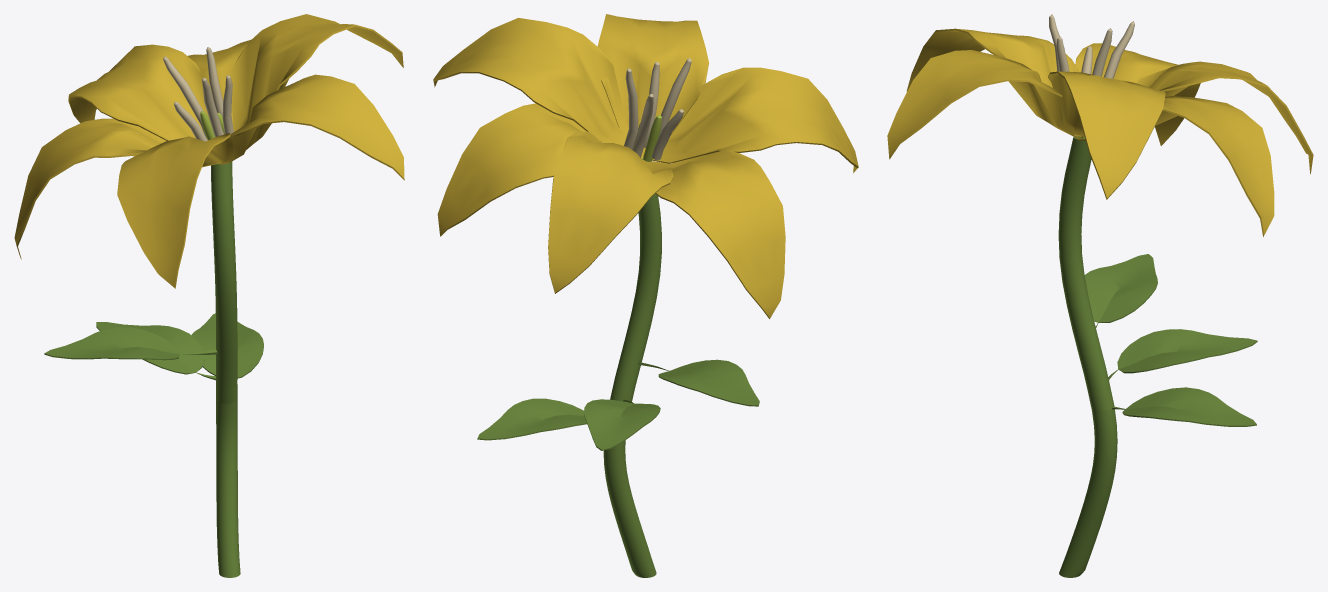
The model's file is Flower_1.fbx.
3 views of the same model, side by side, from view 1: azimuth 30°, elevation 25°; view 2: azimuth 150°, elevation 25°; view 3: azimuth 270°, elevation 25° (orthographic). The views are drawn at different scales.
Visible parts, largest first — view 1: stem1; view 2: stem1; view 3: stem1.
Part boxes in pixels (left/top/right/bottom): stem1: left=14, top=14, right=404, bottom=577; stem1: left=433, top=14, right=858, bottom=577; stem1: left=887, top=14, right=1313, bottom=577.
Bounding box in the file's own units: 29.44 × 39.98 × 28.15.
